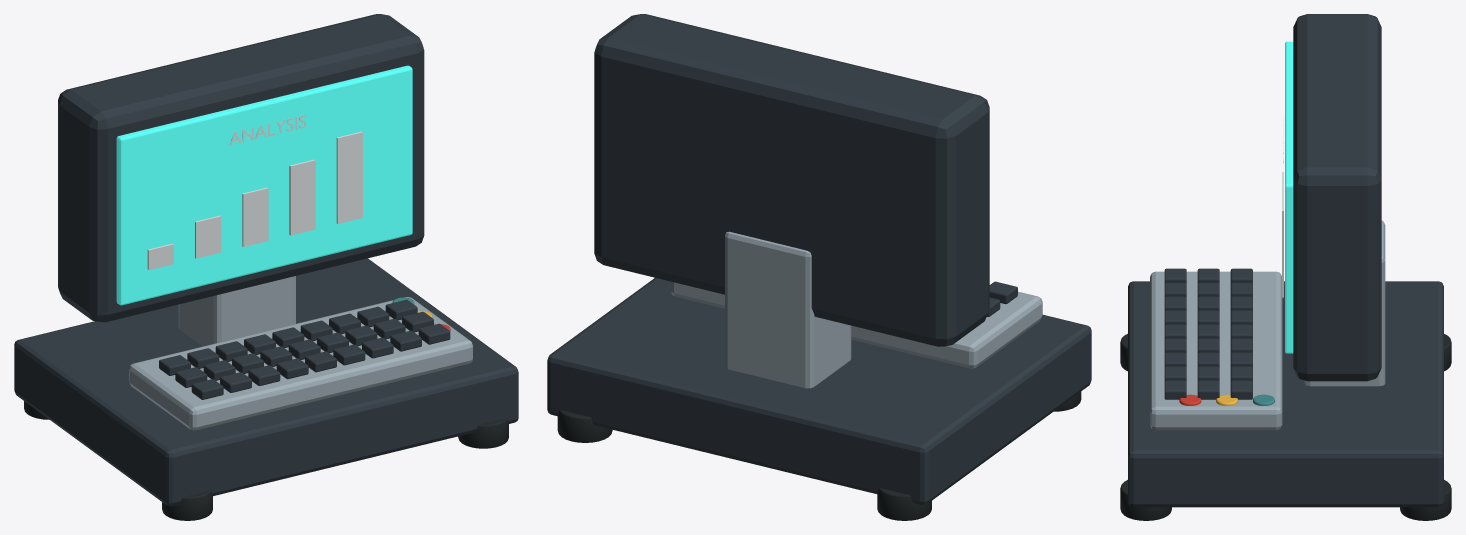
The model's file is variables.glb.
3 views of the same model, side by side, from view 1: azimuth 30°, elevation 25°; view 2: azimuth 150°, elevation 25°; view 3: azimuth 270°, elevation 25° (orthographic). The views are drawn at different scales.
Parts seen in each view (by area): view 1: Console base, Screen, Monitor bezel, Keyboard, Monitor stand, Display bar.004, Display bar.003, Display bar.002, Rubber foot, Rubber foot.002, Display bar.001, Display bar; view 2: Monitor bezel, Console base, Monitor stand, Keyboard, Rubber foot.001, Rubber foot.003; view 3: Console base, Monitor bezel, Keyboard, Screen, Monitor stand, Rubber foot.002, Rubber foot.003, Key.017, Key.008, Key.026.
Boxes of the visible parts, x1,y1,x2,y2 form: Console base: [14, 258, 518, 506]; Screen: [116, 65, 412, 305]; Monitor bezel: [58, 14, 424, 322]; Keyboard: [129, 297, 472, 430]; Monitor stand: [178, 276, 295, 346]; Display bar.004: [336, 131, 362, 223]; Display bar.003: [289, 159, 315, 235]; Display bar.002: [242, 187, 268, 246]; Rubber foot: [162, 490, 212, 520]; Rubber foot.002: [458, 418, 508, 448]; Display bar.001: [195, 215, 221, 258]; Display bar: [147, 243, 173, 269]; Monitor bezel: [594, 14, 989, 346]; Console base: [547, 278, 1091, 504]; Monitor stand: [725, 231, 851, 388]; Keyboard: [671, 281, 1042, 368]; Rubber foot.001: [877, 488, 931, 520]; Rubber foot.003: [557, 410, 612, 442]; Console base: [1128, 281, 1443, 507]; Monitor bezel: [1293, 14, 1381, 381]; Keyboard: [1150, 271, 1282, 430]; Screen: [1285, 41, 1293, 353]; Monitor stand: [1304, 220, 1385, 386]; Rubber foot.002: [1120, 480, 1171, 520]; Rubber foot.003: [1400, 480, 1451, 520]; Key.017: [1197, 380, 1219, 399]; Key.008: [1164, 380, 1186, 399]; Key.026: [1230, 380, 1252, 399].
Bounding box in the file's own units: 0.56 × 0.52 × 0.45.
